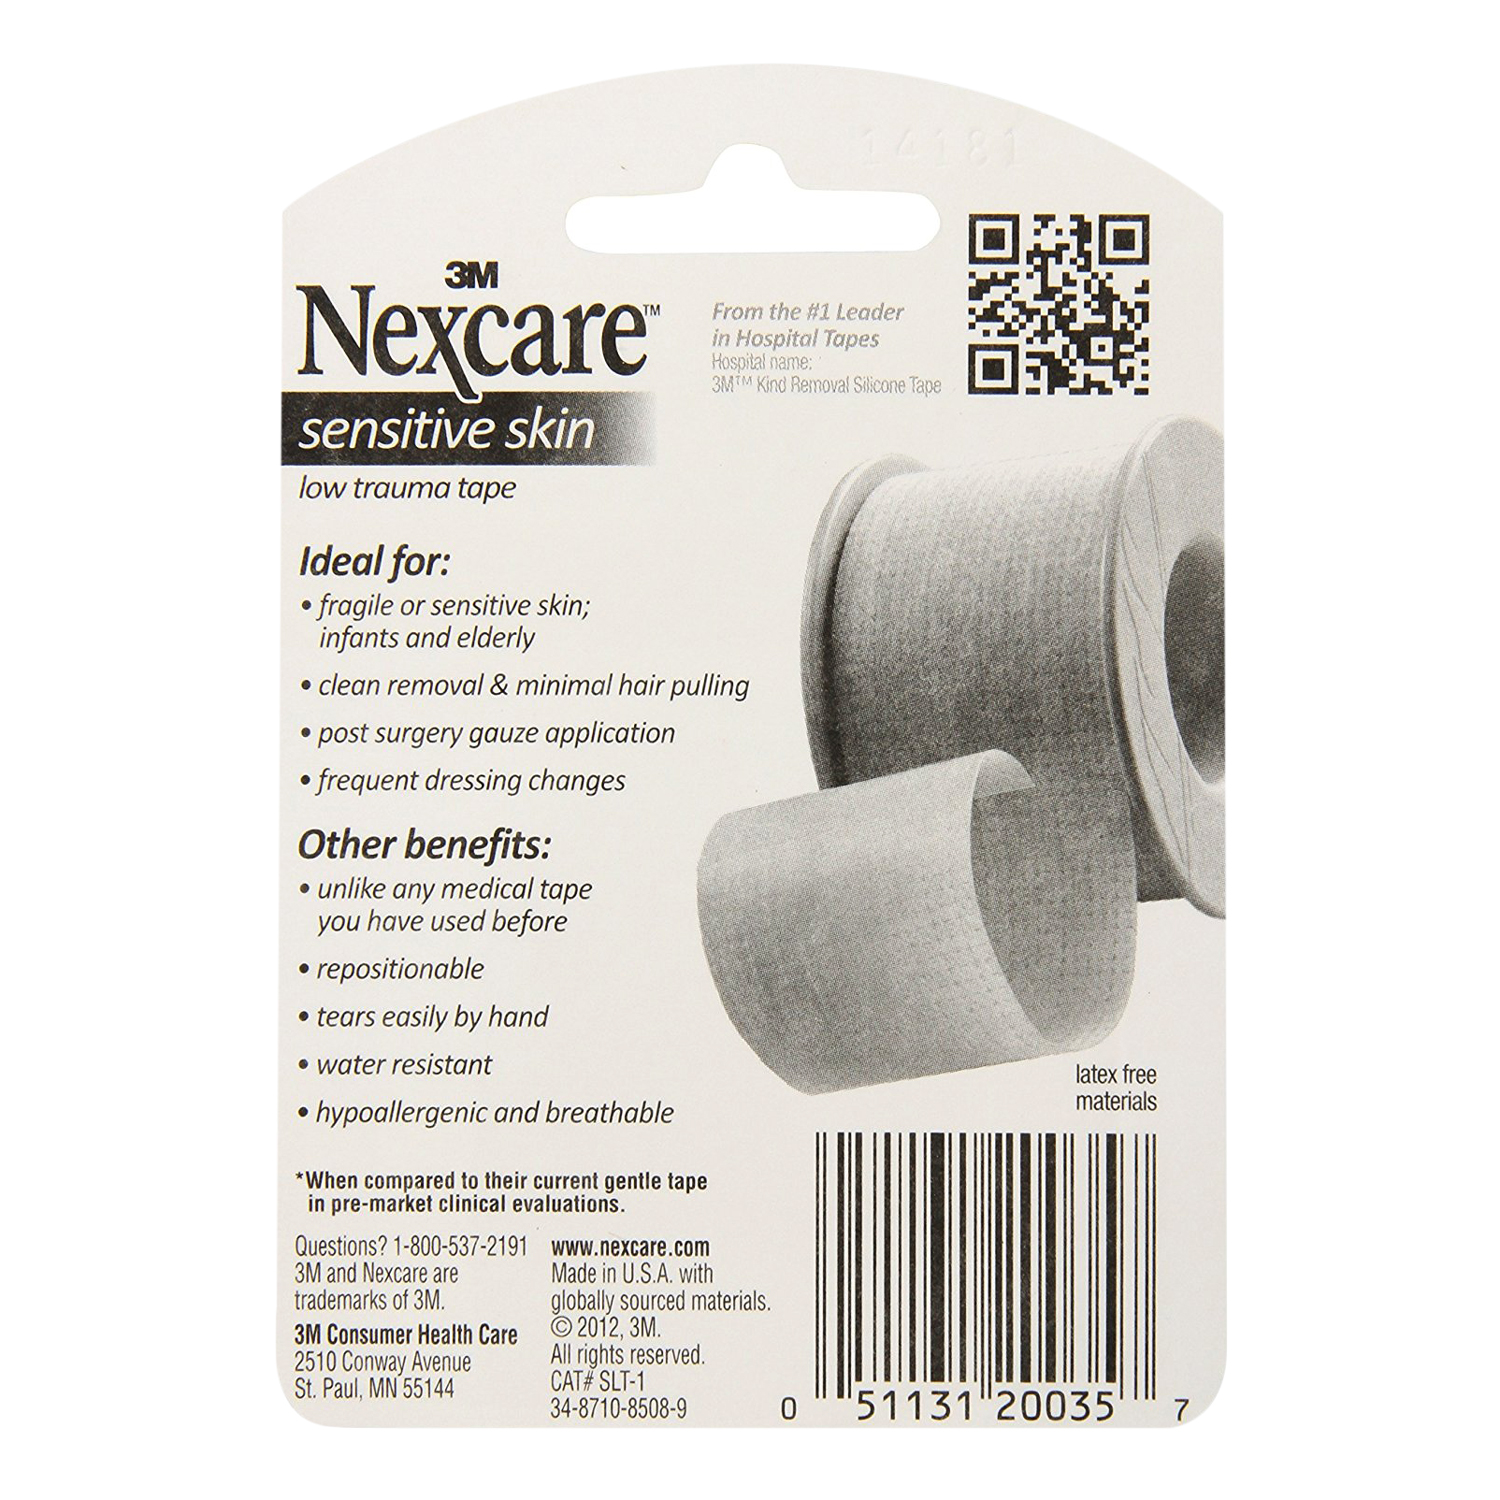3M: (438, 257, 512, 290), (290, 1315, 323, 1352)
